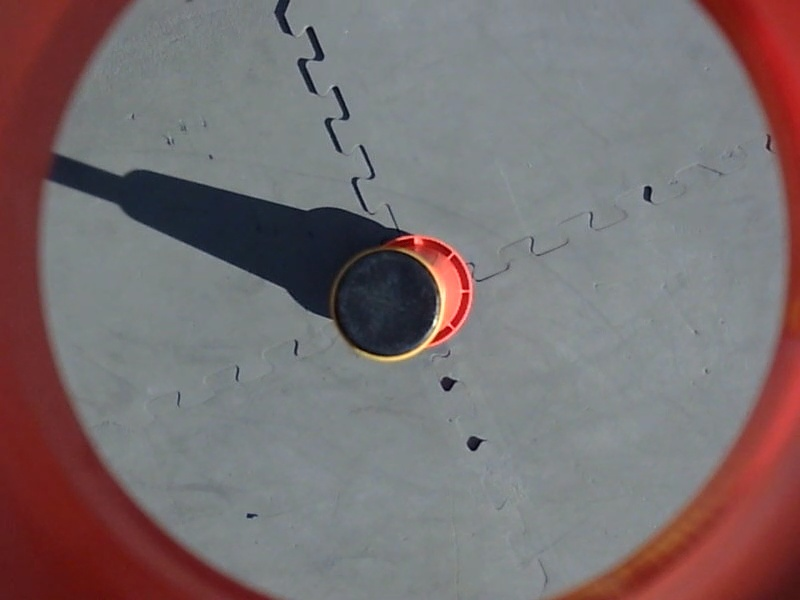tip: (327, 249, 445, 364)
